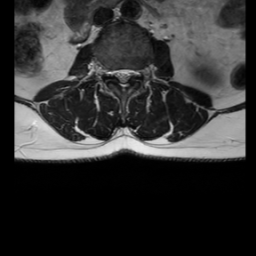CCS_normal: (118, 63, 126, 95)
LFS_normal: (134, 63, 141, 85)
LLS_stenosis: (126, 63, 134, 84)
RFS_stenosis: (104, 63, 111, 83)
RLS_stenosis: (111, 64, 118, 84)
